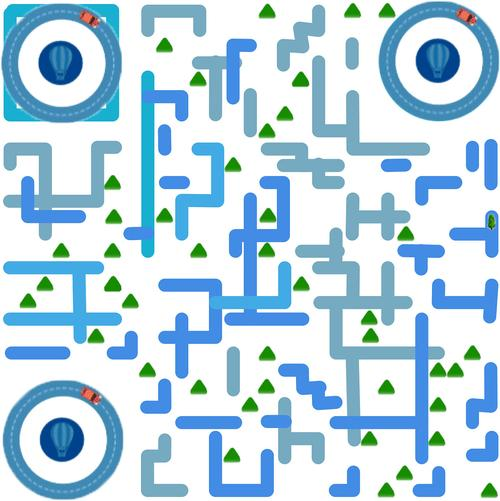QRCode: (1, 1, 498, 498)
